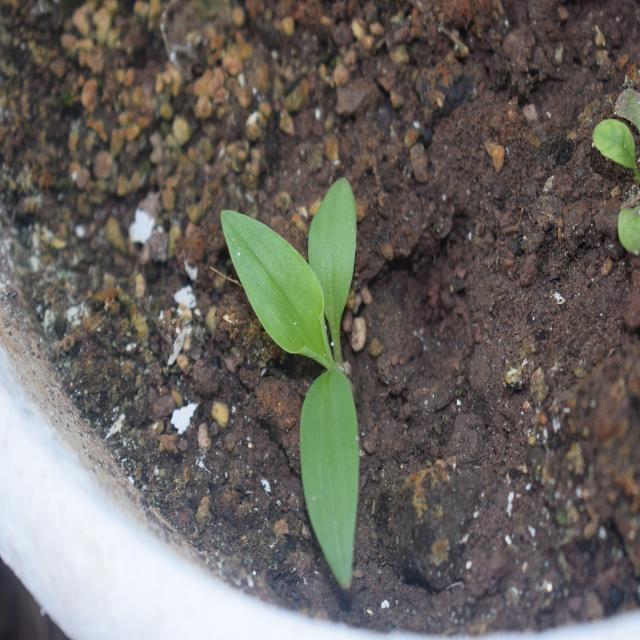Common Dayflower: (228, 175, 374, 598)
